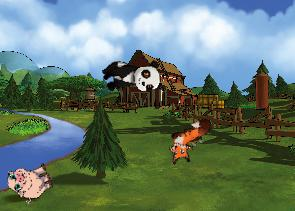fox: (160, 115, 221, 168)
panda: (101, 59, 162, 94)
pig: (3, 155, 57, 207)
